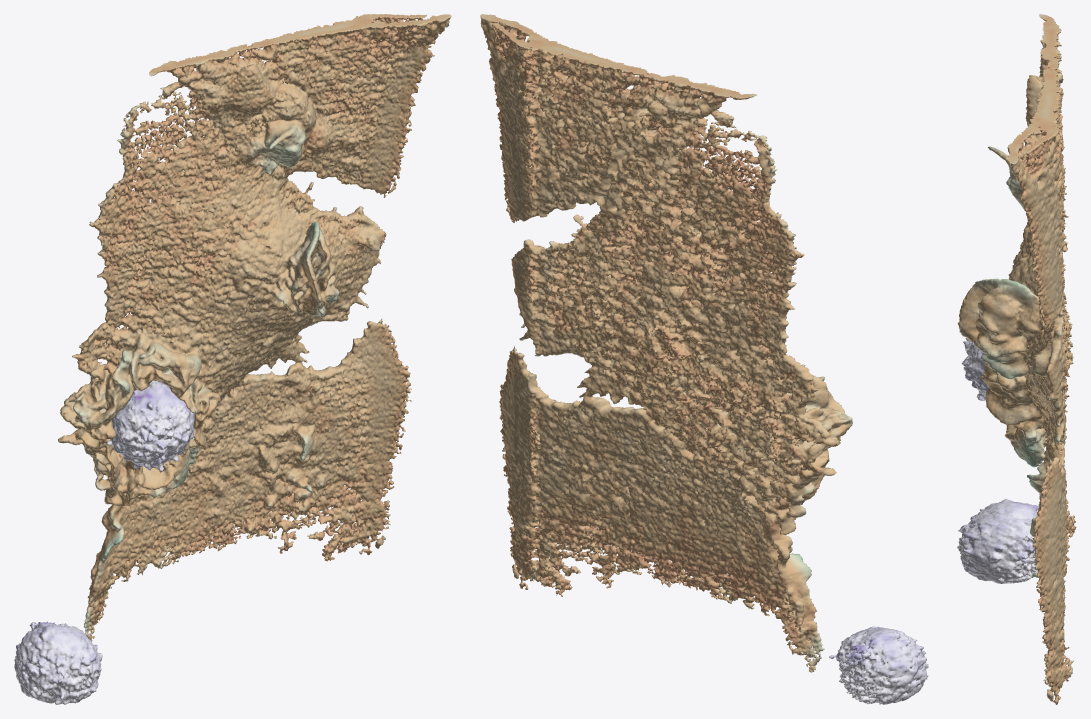
The model's file is Surfaces_1.glb.
The picture shows the model from 3 angles, left to right: view 1: azimuth 30°, elevation 25°; view 2: azimuth 150°, elevation 25°; view 3: azimuth 270°, elevation 25°; orthographic projection. The views are drawn at different scales.
Visible parts, largest first — view 1: surface (×2); view 2: surface (×2); view 3: surface (×2).
Part boxes in pixels (bbox=[...]): surface (×2): bbox=[14, 14, 451, 704]; surface (×2): bbox=[480, 14, 928, 704]; surface (×2): bbox=[957, 14, 1076, 704].
Bounding box in the file's own units: 602 × 764 × 135.
